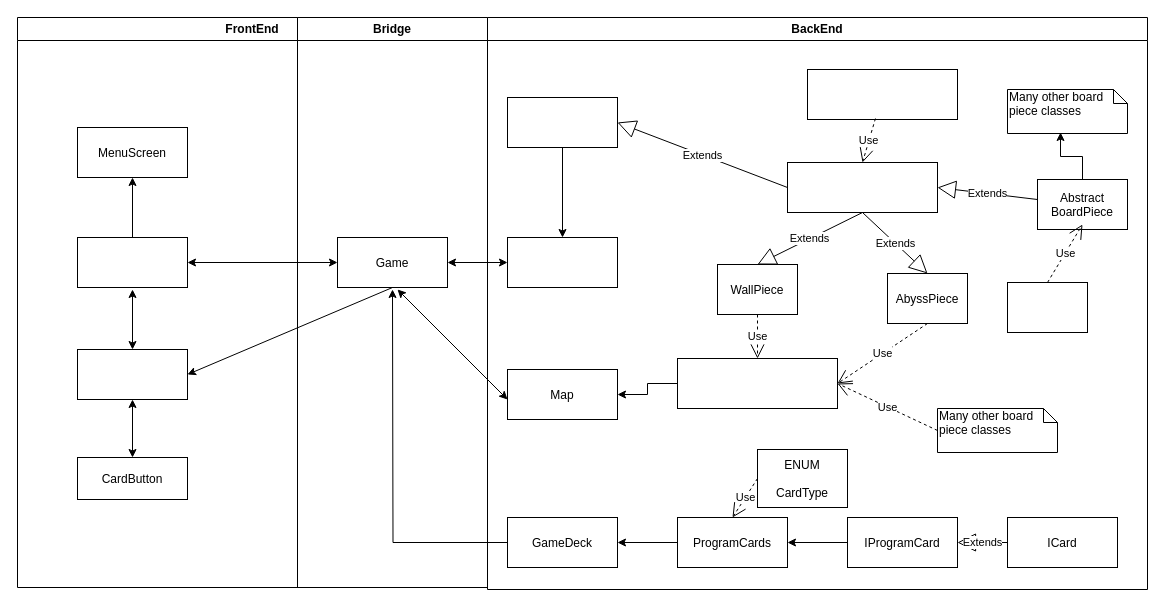
This 1165x607 diagram has some shape labels left out. Here are the shapes that lost their labels. From the top down, the box of each, then its label:
(806, 68, 958, 120): ENUM Direction
(506, 96, 618, 148): PlayerPiece
(786, 162, 938, 212): Abstract DirectionedBoardPiece
(76, 236, 188, 288): GameScreen
(506, 236, 618, 288): Player
(1006, 282, 1088, 332): Position
(76, 348, 188, 400): UIScreen
(676, 358, 838, 408): BoardPieceGenerator
